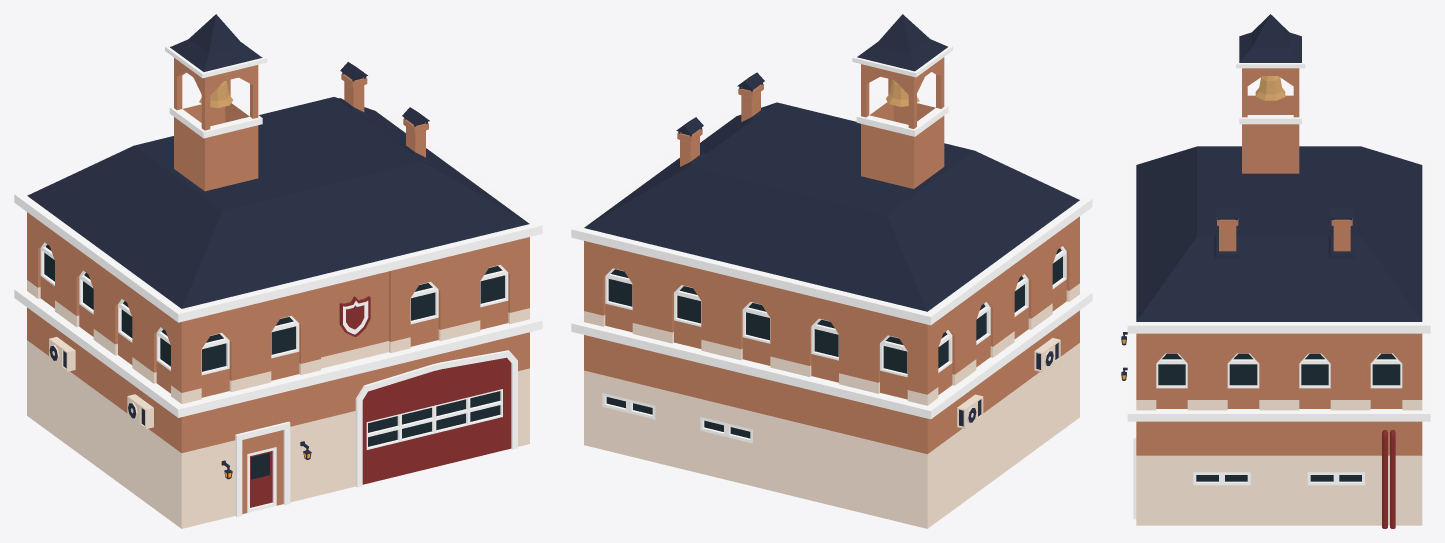
The model's file is building-firestation.glb.
The picture shows the model from 3 angles, left to right: view 1: azimuth 30°, elevation 25°; view 2: azimuth 150°, elevation 25°; view 3: azimuth 270°, elevation 25°; orthographic projection. The views are drawn at different scales.
Visible parts, largest first — view 1: building-firestation; view 2: building-firestation; view 3: building-firestation.
Part boxes in pixels (x1=…): building-firestation: x1=14, y1=14, x2=542, y2=528; building-firestation: x1=571, y1=14, x2=1092, y2=528; building-firestation: x1=1121, y1=14, x2=1430, y2=528.
Size of the model in its own units: 13.65 by 15.54 by 10.82.
1 material, 1 textured.
